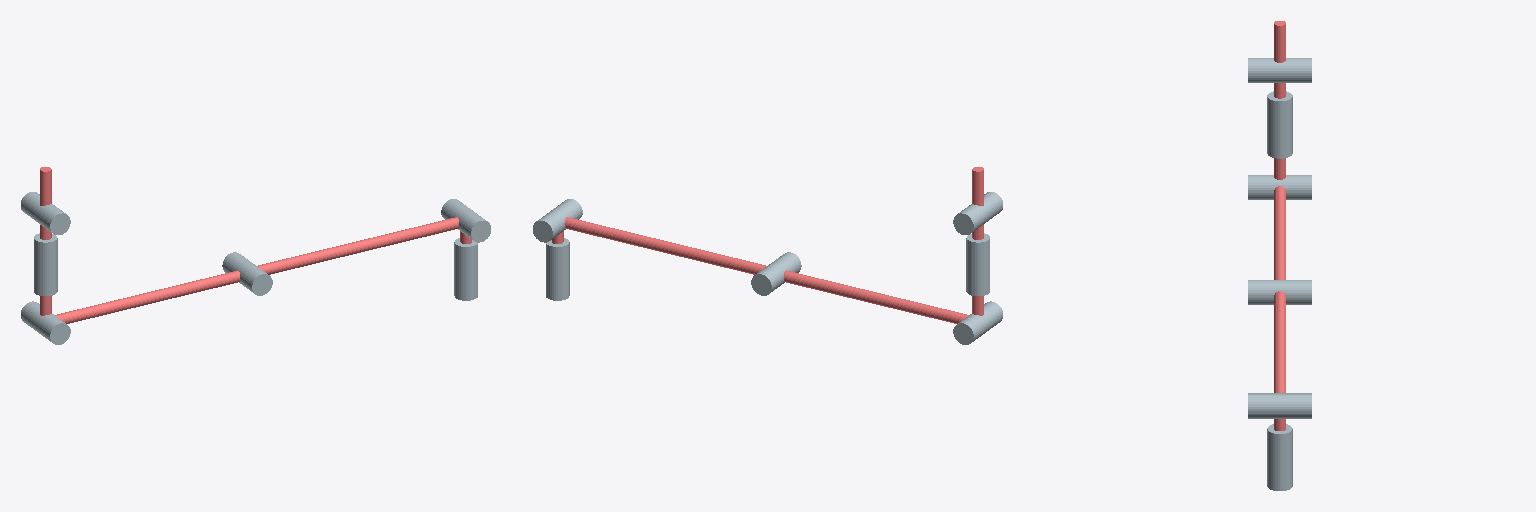
robot.urdf — GenericDH:
<robot name='GenericDH'>
	<material name='blue'>
		<color rgba='0 0 0.8 1'/>
	</material>
	<material name='red'>
		<color rgba='0.8 0 0 1'/>
	</material>
	<link name='a0'>
		<visual>
			<origin rpy='-0.0 0.0 0.0' xyz='0.0 0.0 0.0'/>
			<geometry>
				<cylinder length='0.1' radius='0.02'/>
			</geometry>
			<material name='blue'><color rgba='0.73 0.79 0.82 1'/></material>
		</visual>
	</link>
	<link name='l0'>
		<visual>
			<origin rpy='-0.0 0.0 0.0' xyz='0.0 0.0 0.0447295'/>
			<geometry>
				<cylinder length='0.089459' radius='0.01'/>
			</geometry>
			<material name='grey'><color rgba='0.99 0.54 0.54 1'/></material>
		</visual>
	</link>
	<joint name='move_l0_from_a0' type='continuous'>
		<parent link='a0'/>
		<child link='l0'/>
		<axis xyz='0.0 0.0 1.0'/>
		<origin rpy='0 0 0' xyz='0.0 0.0 0.0'/>
	</joint>
	<link name='a1'>
		<visual>
			<origin rpy='1.5707963267948966 0.0 0.0' xyz='0.0 0.0 0.089459'/>
			<geometry>
				<cylinder length='0.1' radius='0.02'/>
			</geometry>
			<material name='blue'><color rgba='0.73 0.79 0.82 1'/></material>
		</visual>
	</link>
	<joint name='fix_a1_to_l0' type='fixed'>
		<parent link='l0'/>
		<child link='a1'/>
		<origin rpy='0 0 0' xyz='0 0 0'/>
	</joint>
	<link name='l1'>
		<visual>
			<origin rpy='-0.0 -1.5707963267948963 0.0' xyz='-0.2125 -0.0 0.0'/>
			<geometry>
				<cylinder length='0.425' radius='0.01'/>
			</geometry>
			<material name='grey'><color rgba='0.99 0.54 0.54 1'/></material>
		</visual>
	</link>
	<joint name='move_l1_from_a1' type='continuous'>
		<parent link='a1'/>
		<child link='l1'/>
		<axis xyz='0.0 -1.0 0.0'/>
		<origin rpy='0 0 0' xyz='0.0 0.0 0.089459'/>
	</joint>
	<link name='a2'>
		<visual>
			<origin rpy='1.5707963267948966 0.0 0.0' xyz='-0.425 -0.0 0.0'/>
			<geometry>
				<cylinder length='0.1' radius='0.02'/>
			</geometry>
			<material name='blue'><color rgba='0.73 0.79 0.82 1'/></material>
		</visual>
	</link>
	<joint name='fix_a2_to_l1' type='fixed'>
		<parent link='l1'/>
		<child link='a2'/>
		<origin rpy='0 0 0' xyz='0 0 0'/>
	</joint>
	<link name='l2'>
		<visual>
			<origin rpy='-0.0 -1.5707963267948963 0.0' xyz='-0.196125 -0.0 0.0'/>
			<geometry>
				<cylinder length='0.39225' radius='0.01'/>
			</geometry>
			<material name='grey'><color rgba='0.99 0.54 0.54 1'/></material>
		</visual>
	</link>
	<joint name='move_l2_from_a2' type='continuous'>
		<parent link='a2'/>
		<child link='l2'/>
		<axis xyz='0.0 -1.0 0.0'/>
		<origin rpy='0 0 0' xyz='-0.425 -0.0 0.0'/>
	</joint>
	<link name='a3'>
		<visual>
			<origin rpy='1.5707963267948966 0.0 0.0' xyz='-0.39225 -0.0 0.0'/>
			<geometry>
				<cylinder length='0.1' radius='0.02'/>
			</geometry>
			<material name='blue'><color rgba='0.73 0.79 0.82 1'/></material>
		</visual>
	</link>
	<joint name='fix_a3_to_l2' type='fixed'>
		<parent link='l2'/>
		<child link='a3'/>
		<origin rpy='0 0 0' xyz='0 0 0'/>
	</joint>
	<link name='l3'>
		<visual>
			<origin rpy='-0.0 0.0 0.0' xyz='0.0 0.0 0.054575'/>
			<geometry>
				<cylinder length='0.10915' radius='0.01'/>
			</geometry>
			<material name='grey'><color rgba='0.99 0.54 0.54 1'/></material>
		</visual>
	</link>
	<joint name='move_l3_from_a3' type='continuous'>
		<parent link='a3'/>
		<child link='l3'/>
		<axis xyz='0.0 -1.0 0.0'/>
		<origin rpy='0 0 0' xyz='-0.39225 -0.0 0.0'/>
	</joint>
	<link name='a4'>
		<visual>
			<origin rpy='3.141592653589793 0.0 0.0' xyz='0.0 0.0 0.10915'/>
			<geometry>
				<cylinder length='0.1' radius='0.02'/>
			</geometry>
			<material name='blue'><color rgba='0.73 0.79 0.82 1'/></material>
		</visual>
	</link>
	<joint name='fix_a4_to_l3' type='fixed'>
		<parent link='l3'/>
		<child link='a4'/>
		<origin rpy='0 0 0' xyz='0 0 0'/>
	</joint>
	<link name='l4'>
		<visual>
			<origin rpy='-0.0 0.0 0.0' xyz='0.0 0.0 0.047325'/>
			<geometry>
				<cylinder length='0.09465' radius='0.01'/>
			</geometry>
			<material name='grey'><color rgba='0.99 0.54 0.54 1'/></material>
		</visual>
	</link>
	<joint name='move_l4_from_a4' type='continuous'>
		<parent link='a4'/>
		<child link='l4'/>
		<axis xyz='0.0 -1.2246467991473532e-16 -1.0'/>
		<origin rpy='0 0 0' xyz='0.0 0.0 0.10915'/>
	</joint>
	<link name='a5'>
		<visual>
			<origin rpy='1.5707963267948966 0.0 0.0' xyz='0.0 0.0 0.09465'/>
			<geometry>
				<cylinder length='0.1' radius='0.02'/>
			</geometry>
			<material name='blue'><color rgba='0.73 0.79 0.82 1'/></material>
		</visual>
	</link>
	<joint name='fix_a5_to_l4' type='fixed'>
		<parent link='l4'/>
		<child link='a5'/>
		<origin rpy='0 0 0' xyz='0 0 0'/>
	</joint>
	<link name='l5'>
		<visual>
			<origin rpy='-0.0 0.0 0.0' xyz='0.0 0.0 0.04115'/>
			<geometry>
				<cylinder length='0.0823' radius='0.01'/>
			</geometry>
			<material name='grey'><color rgba='0.99 0.54 0.54 1'/></material>
		</visual>
	</link>
	<joint name='move_l5_from_a5' type='continuous'>
		<parent link='a5'/>
		<child link='l5'/>
		<axis xyz='0.0 -1.0 0.0'/>
		<origin rpy='0 0 0' xyz='0.0 0.0 0.09465'/>
	</joint>
</robot>

--- What the picture shows (computed from the rendered views, not written in the file) ---
The picture shows the robot from 3 angles, left to right: view 1: azimuth 30°, elevation 25°; view 2: azimuth 150°, elevation 25°; view 3: azimuth 270°, elevation 25°; orthographic projection.
Model GenericDH with 12 links and 11 joints (6 continuous, 5 fixed), rooted at a0, posed all joints at 0.
Links seen in each view (by area): view 1: l1, l2, a4, a0, a5, a3, a2, a1; view 2: l1, l2, a4, a0, a5, a3, a2, a1; view 3: a1, a4, a0, a5, a2, a3, l1, l2.
Boxes of the visible links, x1,y1,x2,y2 form: l1: [257, 217, 458, 274]; l2: [55, 270, 239, 323]; a4: [34, 233, 57, 295]; a0: [454, 238, 477, 300]; a5: [21, 192, 70, 234]; a3: [21, 301, 70, 344]; a2: [222, 252, 272, 295]; a1: [441, 199, 490, 242]; l1: [565, 217, 766, 274]; l2: [784, 270, 968, 323]; a4: [966, 233, 989, 295]; a0: [546, 238, 569, 300]; a5: [953, 192, 1002, 234]; a3: [953, 301, 1002, 344]; a2: [751, 252, 801, 295]; a1: [533, 199, 582, 242]; a1: [1248, 393, 1311, 418]; a4: [1267, 91, 1292, 158]; a0: [1267, 424, 1292, 490]; a5: [1248, 58, 1311, 82]; a2: [1248, 280, 1311, 304]; a3: [1248, 175, 1311, 199]; l1: [1274, 291, 1285, 392]; l2: [1274, 186, 1285, 279].
Bounding box of the posed robot: 0.8572 × 0.1 × 0.4256 m (x, y, z).
Geometry: primitives only (box / cylinder / sphere), no mesh files.